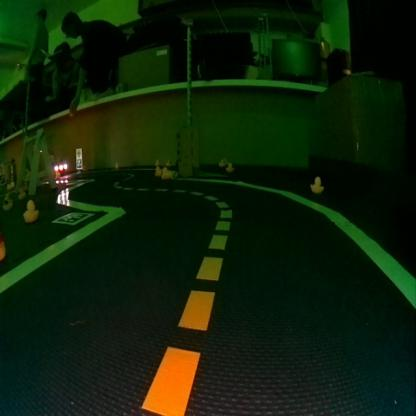Duckie: (22, 200, 38, 221), (311, 178, 323, 192), (161, 169, 167, 177), (228, 164, 233, 171), (155, 158, 159, 166), (166, 160, 171, 166), (222, 158, 226, 164), (154, 172, 160, 174)
Intersection sign: (76, 148, 82, 156)
QR code: (54, 210, 94, 224), (76, 158, 82, 166)
